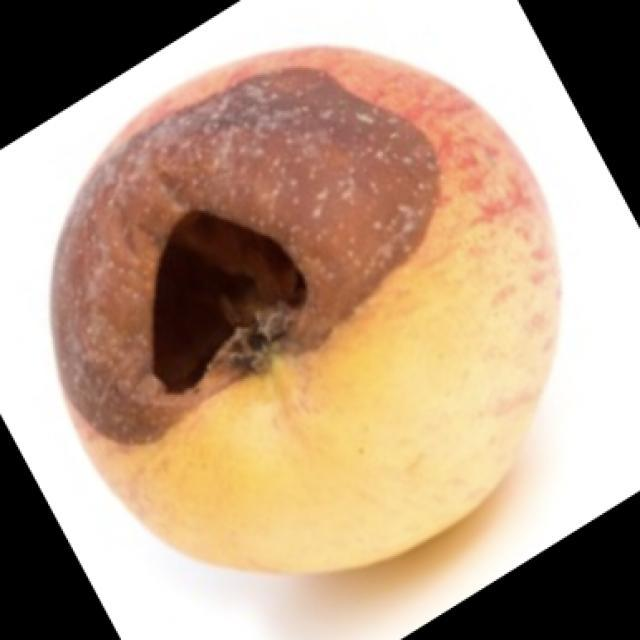Rotten: (41, 42, 552, 578)
